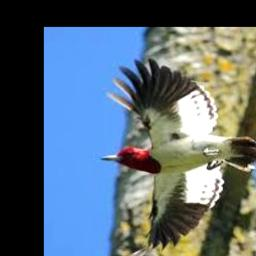Woodpecker: (101, 59, 256, 256)
